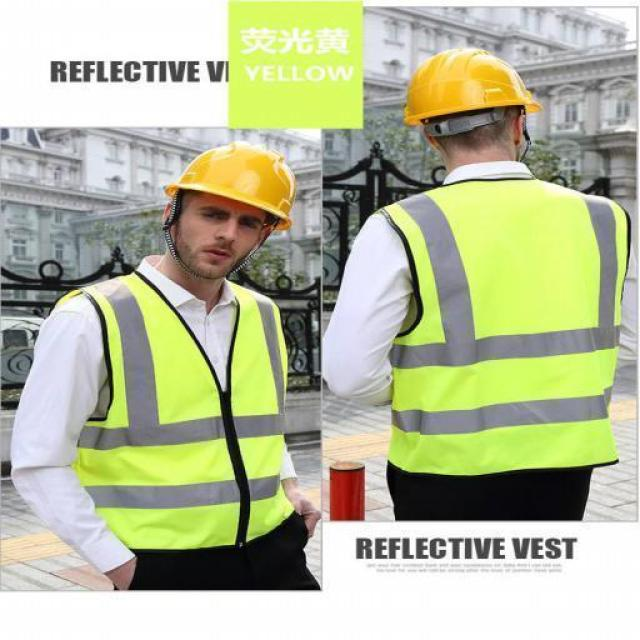face_nomask: (185, 200, 267, 269)
head_helmet: (389, 48, 551, 128), (156, 142, 300, 226)
person: (315, 45, 640, 523), (12, 134, 322, 591)
vest: (374, 184, 631, 473), (55, 274, 307, 554)
